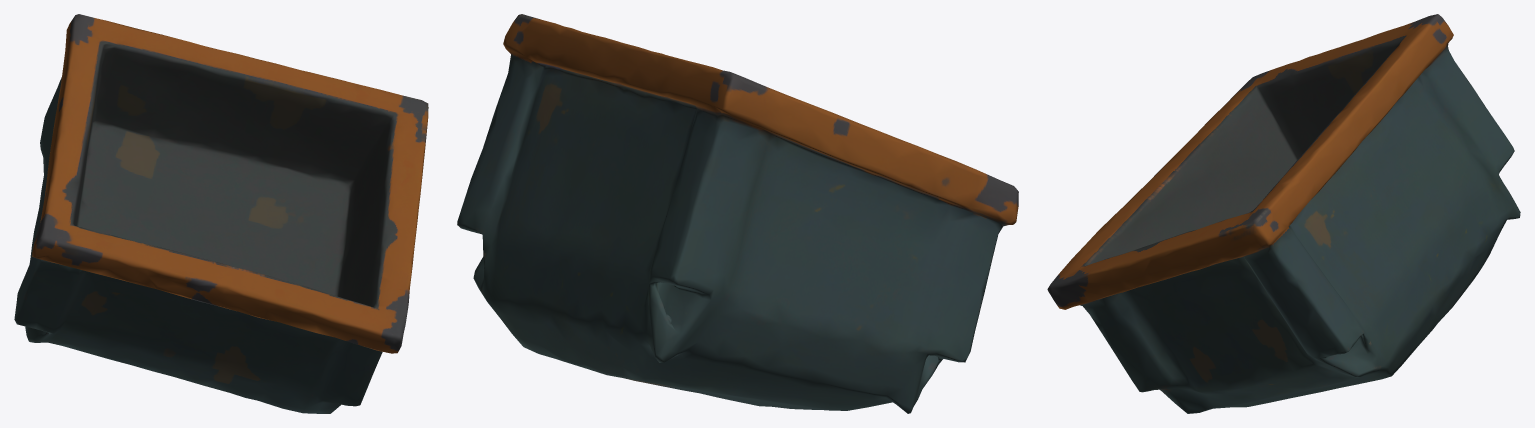
Rendered from scrapper_basin_raw.glb.
3 renders of one model, left to right at view 1: azimuth 30°, elevation 25°; view 2: azimuth 150°, elevation 25°; view 3: azimuth 270°, elevation 25°, orthographic. The views are drawn at different scales.
Bounding box in the file's own units: 0.8745 × 0.7222 × 0.9114.
1 material, 1 textured.
